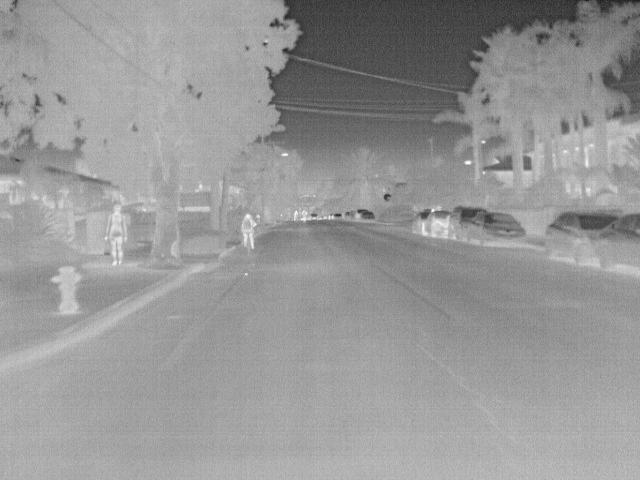car: (542, 210, 621, 260), (589, 211, 640, 272), (464, 211, 528, 247), (446, 208, 491, 238), (424, 209, 456, 237), (411, 210, 431, 232), (359, 209, 379, 225), (333, 212, 343, 222), (309, 212, 320, 221)
person: (106, 200, 128, 265), (239, 210, 255, 248)
